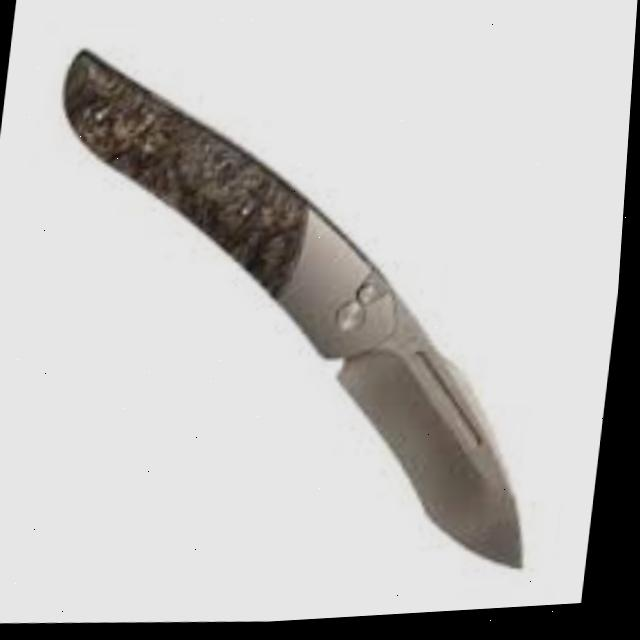knife: (11, 22, 589, 600)
